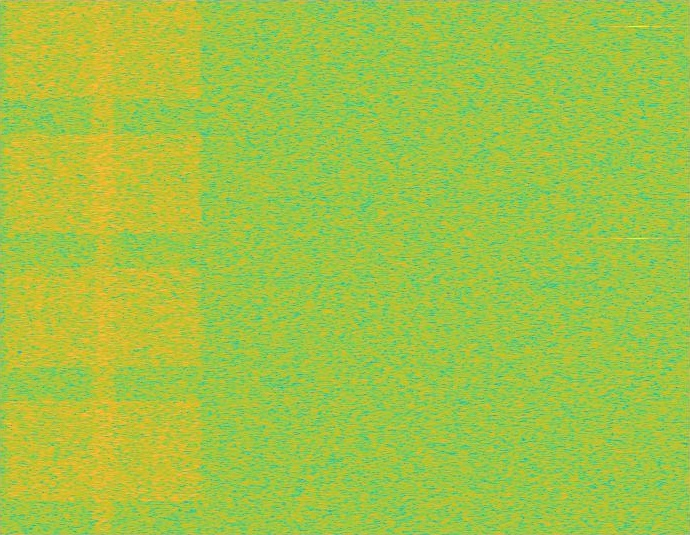5G: (0, 0, 207, 534)
DSSS: (90, 0, 117, 534)
Radar: (631, 0, 645, 534)
